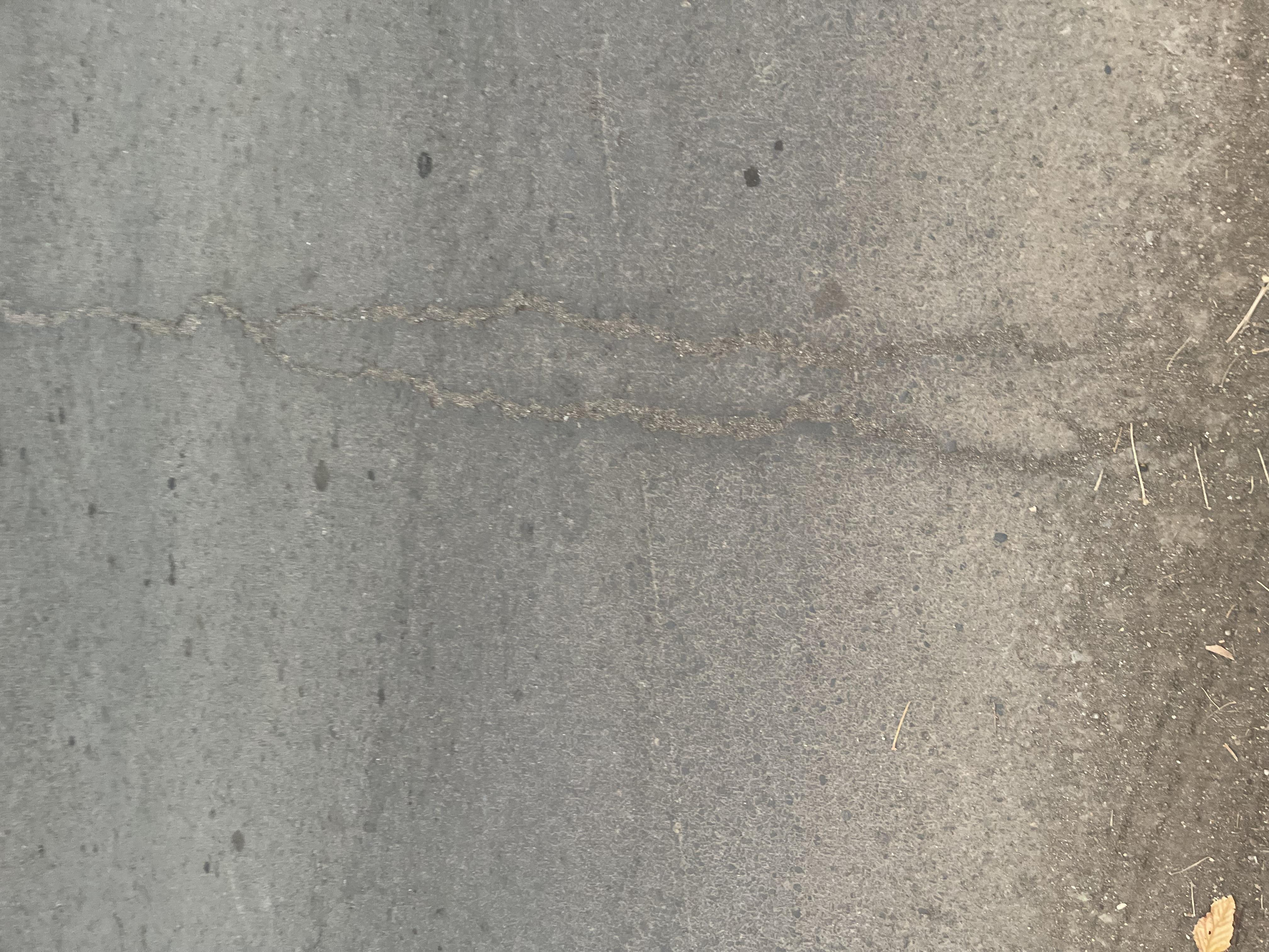GRIETA: (0, 291, 1209, 480), (269, 290, 1152, 366), (595, 69, 618, 221), (640, 473, 662, 623)
